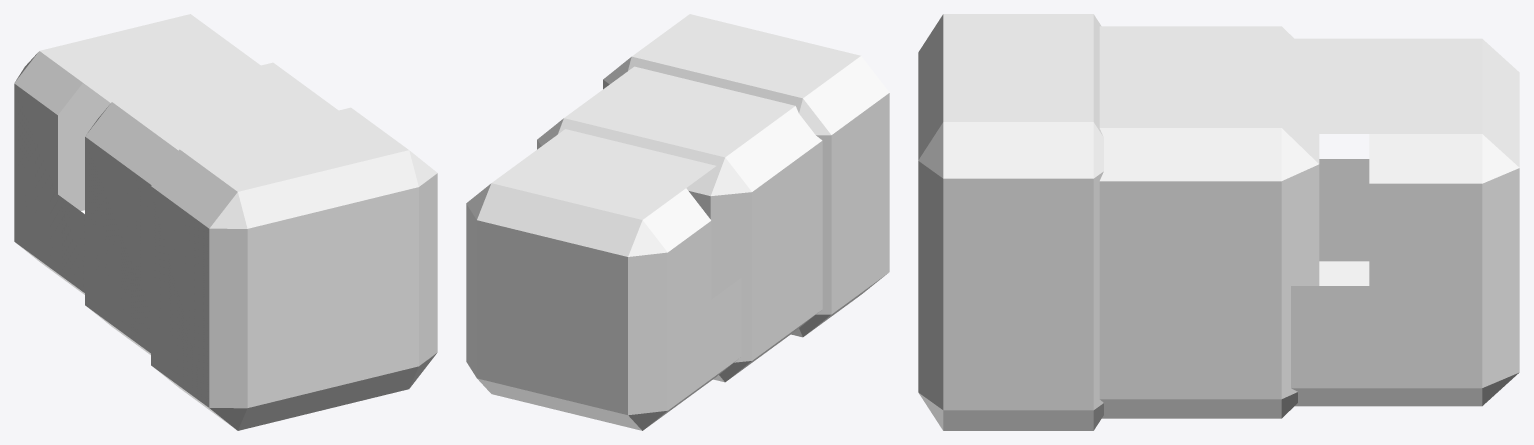
Rendered from Mo_FB_Tail_Bob.fbx.
3 views of the same model, side by side, from view 1: azimuth 30°, elevation 25°; view 2: azimuth 150°, elevation 25°; view 3: azimuth 270°, elevation 25° (orthographic). The views are drawn at different scales.
Visible parts, largest first — view 1: beveled_cuboid_2, beveled_cuboid, beveled_cuboid_1; view 2: beveled_cuboid, beveled_cuboid_1, beveled_cuboid_2; view 3: beveled_cuboid_1, beveled_cuboid, beveled_cuboid_2.
Part boxes in pixels (box(x1,y1,x2,y2)): beveled_cuboid_2: box(151, 107, 437, 430); beveled_cuboid: box(14, 14, 260, 294); beveled_cuboid_1: box(85, 62, 338, 354); beveled_cuboid: box(466, 129, 741, 430); beveled_cuboid_1: box(537, 66, 822, 382); beveled_cuboid_2: box(603, 14, 889, 337); beveled_cuboid_1: box(1099, 26, 1319, 418); beveled_cuboid: box(1291, 38, 1519, 406); beveled_cuboid_2: box(918, 14, 1103, 430).
Bounding box in the file's own units: 21.25 × 21.25 × 37.5.
